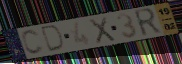3: (117, 12, 138, 40)
4: (73, 20, 91, 47)
C: (20, 29, 46, 56)
D: (41, 24, 66, 54)
R: (132, 7, 164, 39)
X: (88, 16, 118, 45)
